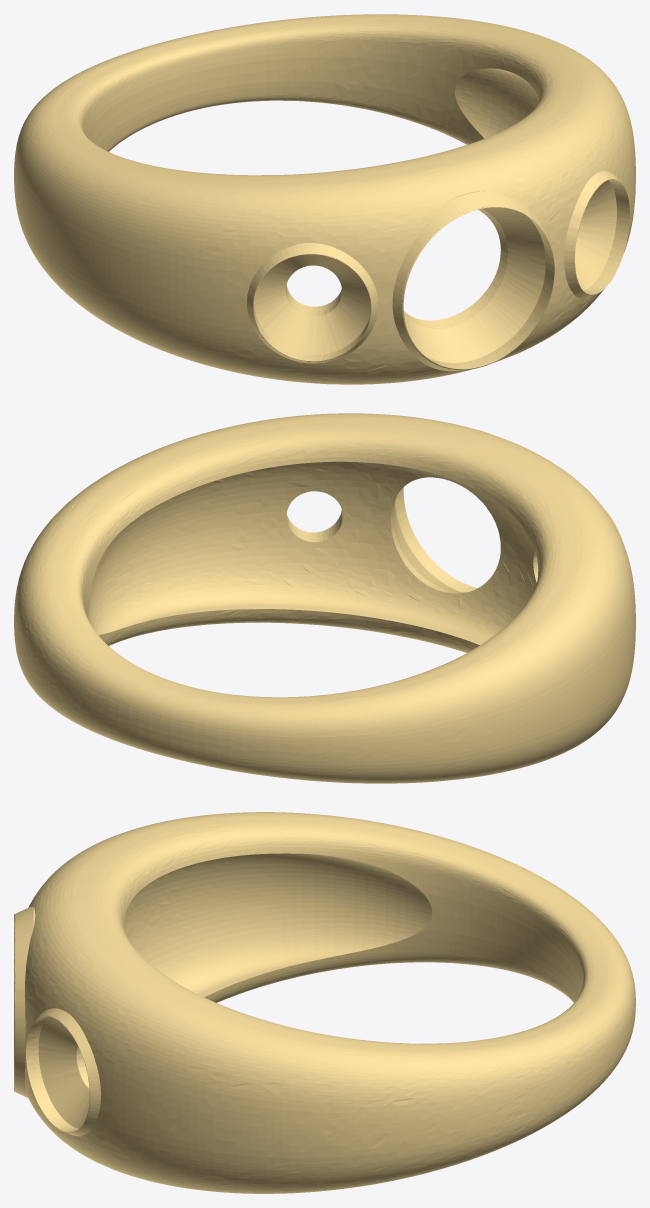
File: three-stone-flush-ring.glb
3 views of the same model, one above another, from view 1: azimuth 30°, elevation 25°; view 2: azimuth 150°, elevation 25°; view 3: azimuth 270°, elevation 25° (orthographic).
Parts seen in each view (by area): view 1: Metal Yellow Gold; view 2: Metal Yellow Gold; view 3: Metal Yellow Gold.
Part boxes in pixels (bbox=[...]): Metal Yellow Gold: bbox=[14, 14, 635, 384]; Metal Yellow Gold: bbox=[14, 413, 635, 783]; Metal Yellow Gold: bbox=[14, 812, 635, 1193].
Size of the model in its own units: 26.27 by 9.5 by 26.03.
